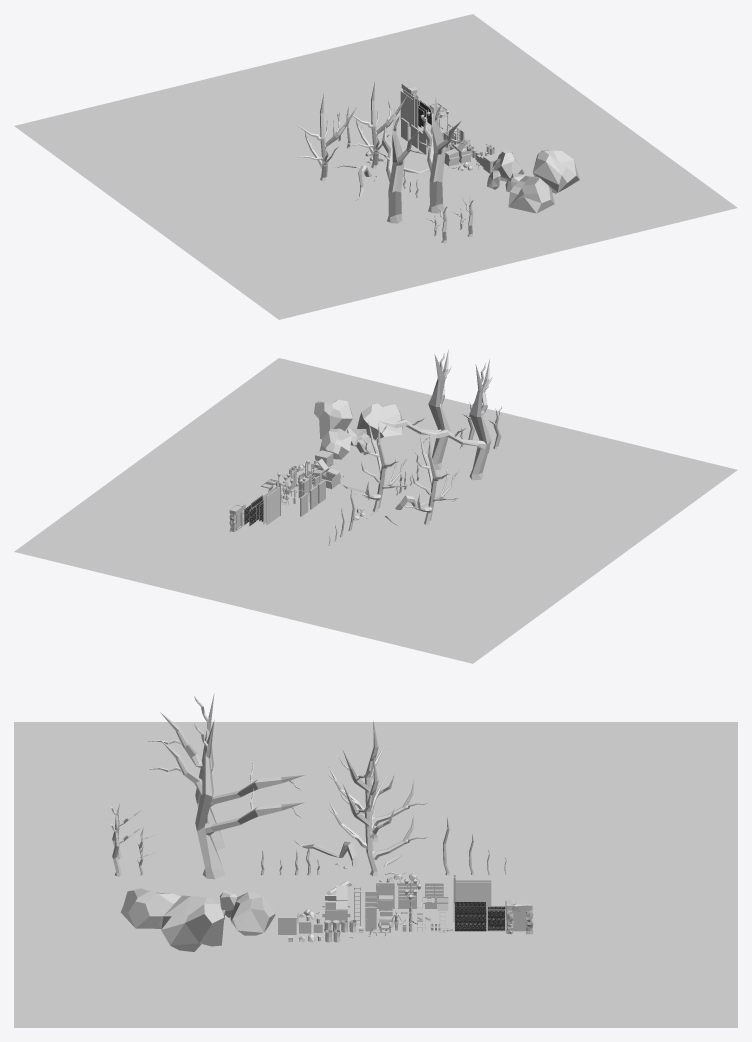
Rendered from all0405.fbx.
3 views of the same model, one above another, from view 1: azimuth 30°, elevation 25°; view 2: azimuth 150°, elevation 25°; view 3: azimuth 270°, elevation 25° (orthographic). The views are drawn at different scales.
Parts seen in each view (by area): view 1: Plane.009, Cylinder.026, Icosphere.003, Icosphere.002, Cylinder.006, Tree2, Icosphere.001; view 2: Plane.009, Cylinder.026, Icosphere.002, Cylinder.006, Tree2, Icosphere.003, Icosphere.001; view 3: Plane.009, Icosphere.003, Cylinder.026, Cylinder.006, Icosphere.002, Tree2, Icosphere.001, High_wall, Cylinder.014, Chainlink_fence_incomplete, Cylinder.024.
Part boxes in pixels (x1,y1,x2,y2): Plane.009: (14, 14, 737, 319); Cylinder.026: (376, 107, 425, 223); Icosphere.003: (532, 150, 579, 193); Icosphere.002: (508, 175, 554, 213); Cylinder.006: (428, 97, 445, 213); Tree2: (294, 93, 356, 180); Icosphere.001: (492, 148, 524, 181); Plane.009: (14, 358, 737, 663); Cylinder.026: (418, 358, 492, 480); Icosphere.002: (357, 403, 402, 439); Cylinder.006: (428, 354, 450, 469); Tree2: (404, 434, 460, 524); Icosphere.003: (314, 399, 352, 439); Icosphere.001: (319, 428, 351, 459); Plane.009: (14, 722, 737, 1027); Icosphere.003: (159, 895, 224, 951); Cylinder.026: (147, 693, 304, 850); Cylinder.006: (195, 720, 225, 879); Icosphere.002: (120, 888, 180, 928); Tree2: (328, 720, 427, 842); Icosphere.001: (230, 892, 275, 935); High_wall: (453, 876, 491, 921); Cylinder.014: (204, 802, 304, 835); Chainlink_fence_incomplete: (454, 909, 486, 931); Cylinder.024: (365, 754, 381, 876).
Size of what is drawn, in the model's own units: 5848 by 1557 by 5848.
